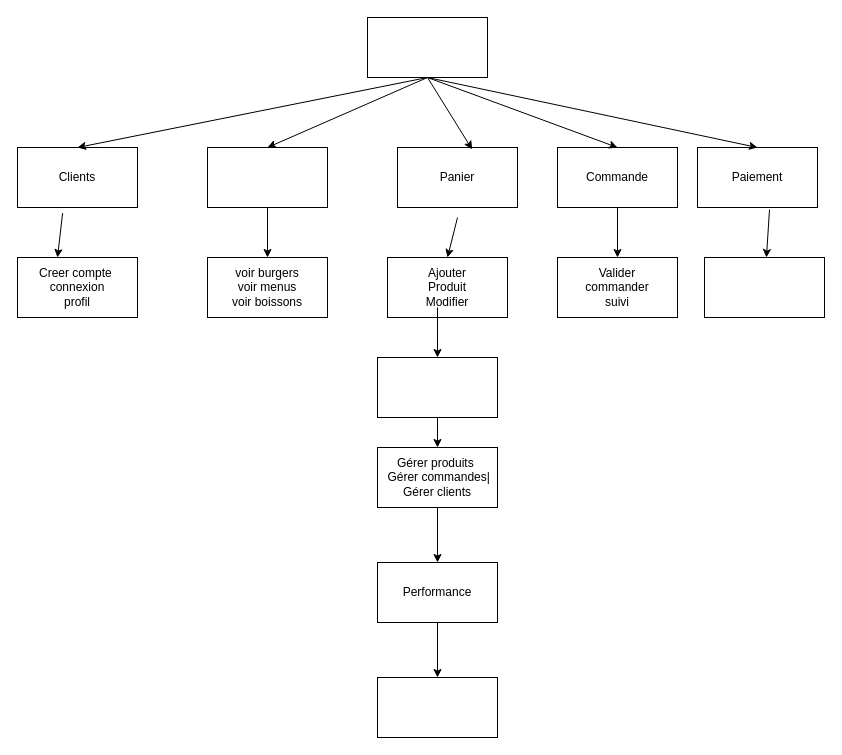
This 842x755 diagram has some shape labels left out. Each missing label, with the box of its shape:
Admin: (376, 356, 498, 418)
Menu: (206, 146, 328, 208)
Paiment securise CB/paypal: (704, 256, 824, 318)
Réponse < 3 sec Disponible 24h/24: (376, 676, 498, 738)
Site burger House: (366, 16, 488, 78)
